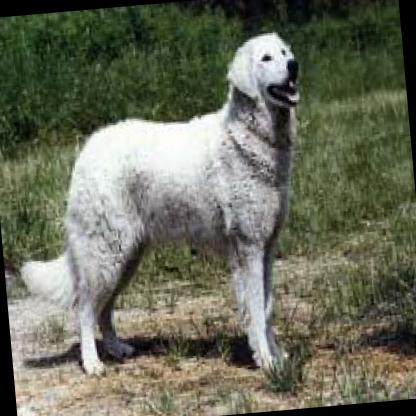kuvasz: (0, 28, 328, 393)
